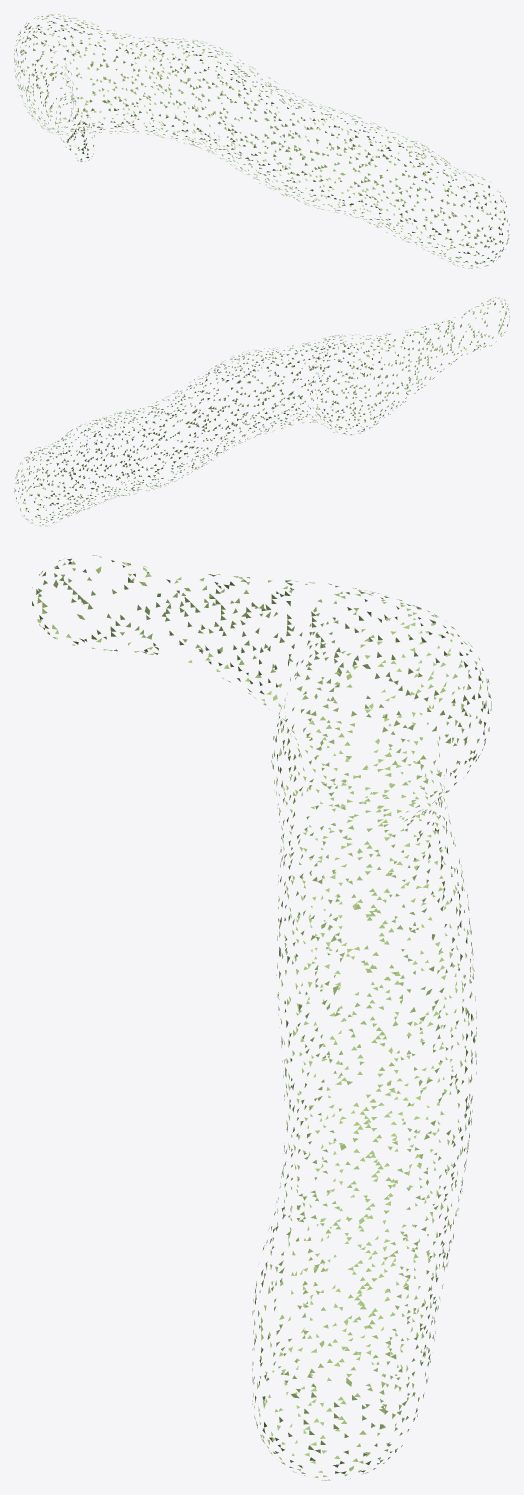
The model's file is morph_012.glb.
3 renders of one model, top to bottom at view 1: azimuth 30°, elevation 25°; view 2: azimuth 150°, elevation 25°; view 3: azimuth 270°, elevation 25°, orthographic. The views are drawn at different scales.
Bounding box in the file's own units: 116 × 72.86 × 55.42.
